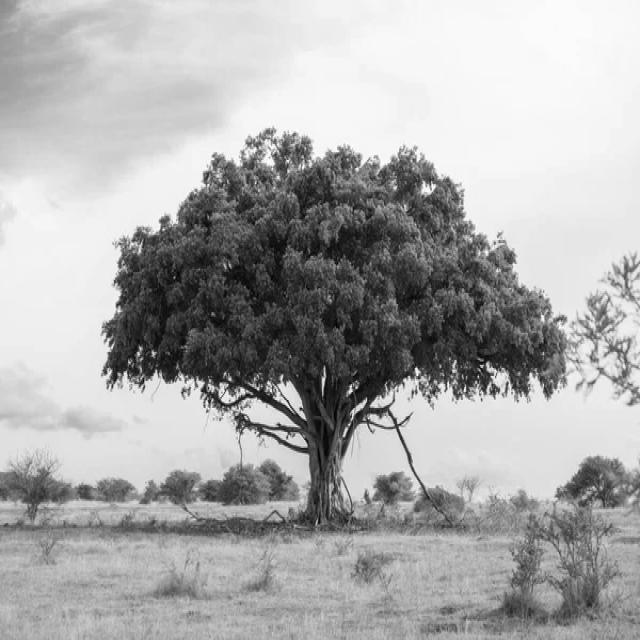Tree: (103, 128, 568, 525)
